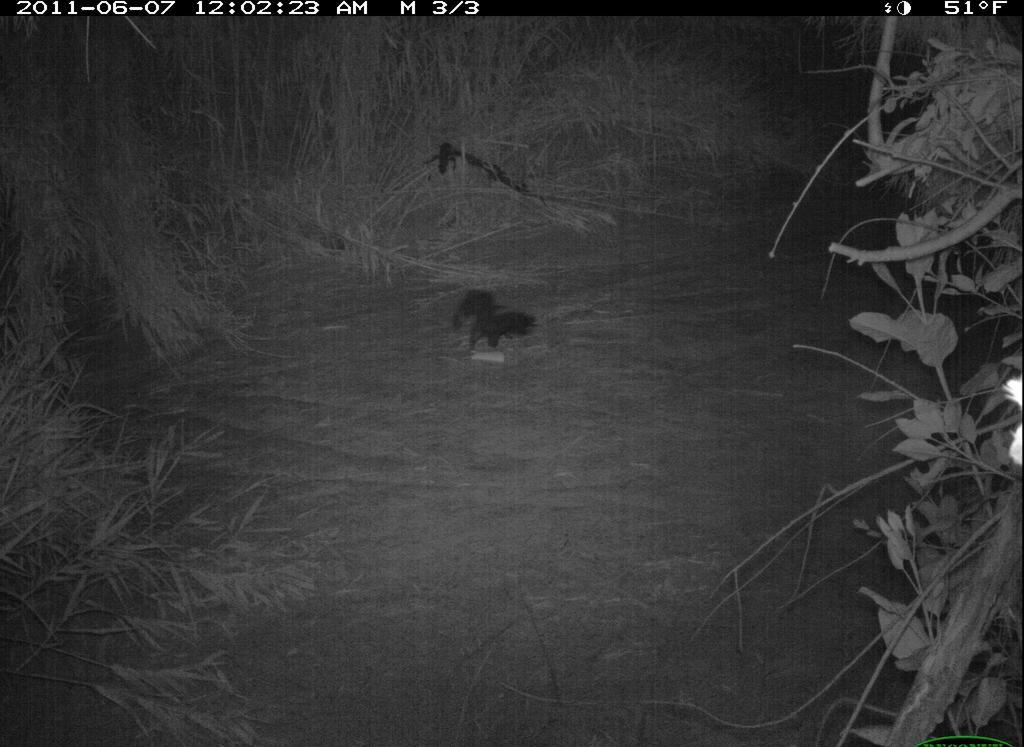skunk: (455, 285, 541, 354)
